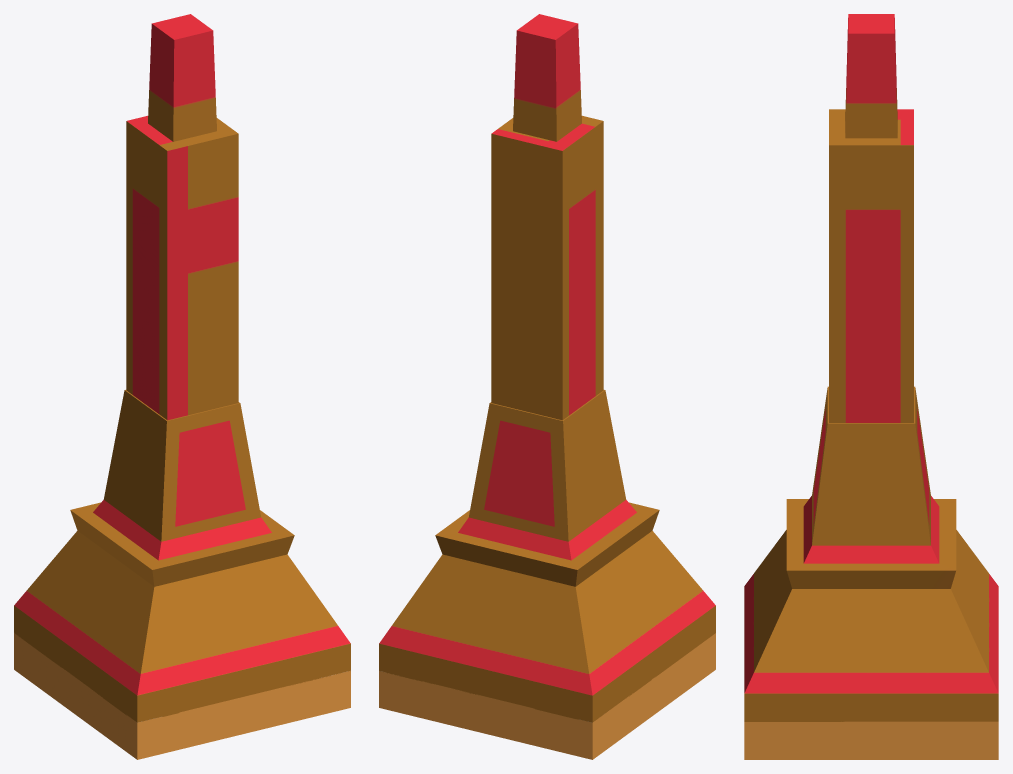
File: tallversions.fbx
3 renders of one model, left to right at view 1: azimuth 30°, elevation 25°; view 2: azimuth 150°, elevation 25°; view 3: azimuth 270°, elevation 25°, orthographic. The views are drawn at different scales.
Parts seen in each view (by area): view 1: l1, s2, m2, Cube, s1, m1; view 2: l1, s2, m2, Cube, s1, m1; view 3: l1, s2, m2, Cube, m1, s1.
Boxes of the visible parts, x1,y1,x2,y2 form: l1: [14, 500, 350, 722]; s2: [126, 115, 238, 420]; m2: [103, 390, 260, 541]; Cube: [14, 632, 350, 759]; s1: [148, 14, 216, 141]; m1: [70, 502, 294, 586]; l1: [379, 500, 715, 722]; s2: [491, 115, 603, 420]; m2: [469, 390, 626, 541]; Cube: [379, 633, 715, 759]; s1: [513, 14, 581, 141]; m1: [435, 502, 659, 586]; l1: [744, 496, 998, 721]; s2: [829, 109, 913, 422]; m2: [812, 386, 930, 545]; Cube: [744, 721, 998, 759]; m1: [786, 499, 956, 588]; s1: [845, 14, 897, 138].
Bounding box in the file's own units: 600 × 1780 × 600.
